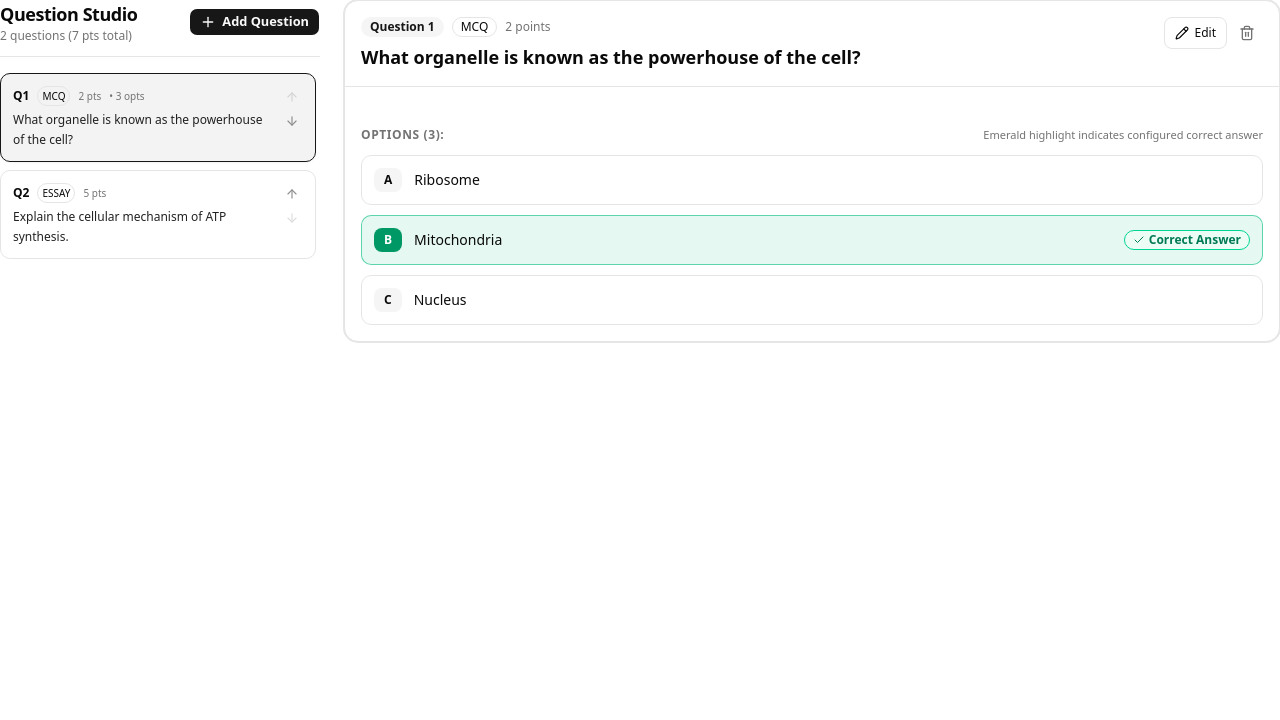
QuestionManager Component › Editing a Question › opens edit dialog, modifies question prompt and points, and saves
This screenshot has width=1280, height=720.
// Click Edit
Click the button with aria-label "Edit question 1" at [1195, 33], box [1164, 17, 1227, 49]
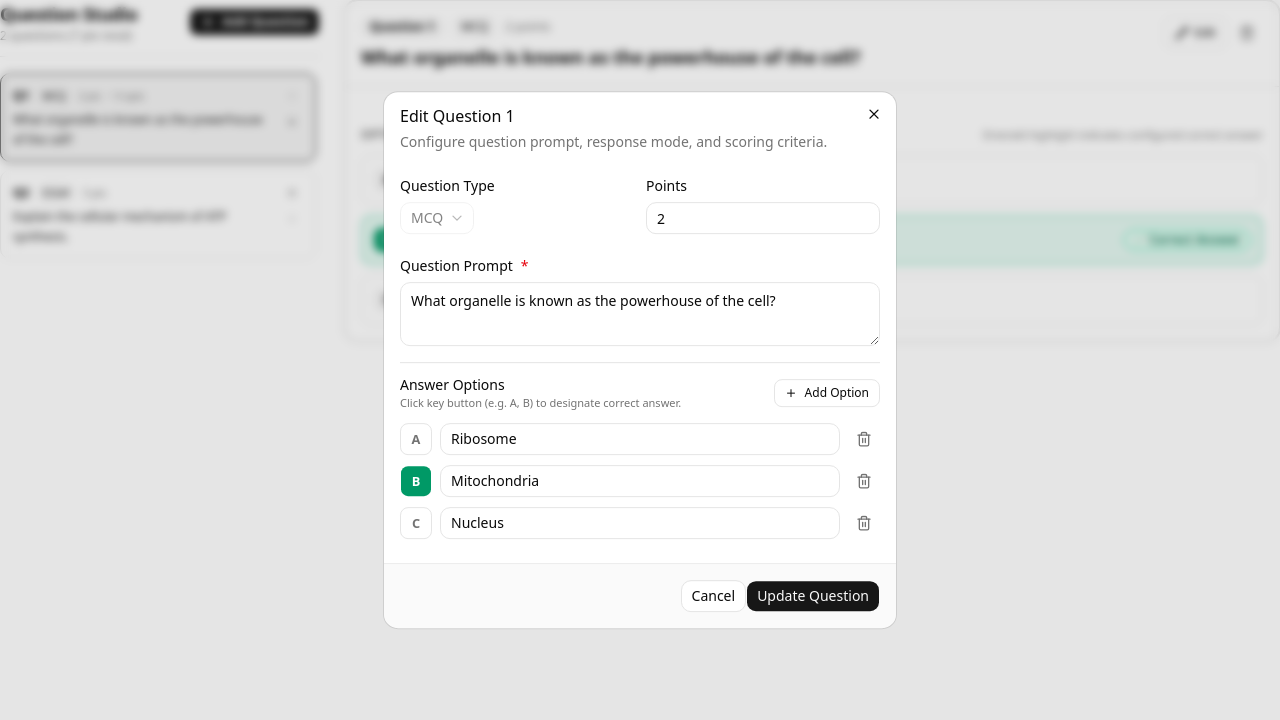
expect the heading "Edit Question 1" is shown: met, box [400, 105, 515, 127]
// Modify prompt and points
Replace the text in the text box labelled "Question Prompt *" with "Updated prompt about cell mitochondria?" at [640, 314], box [400, 282, 880, 346]
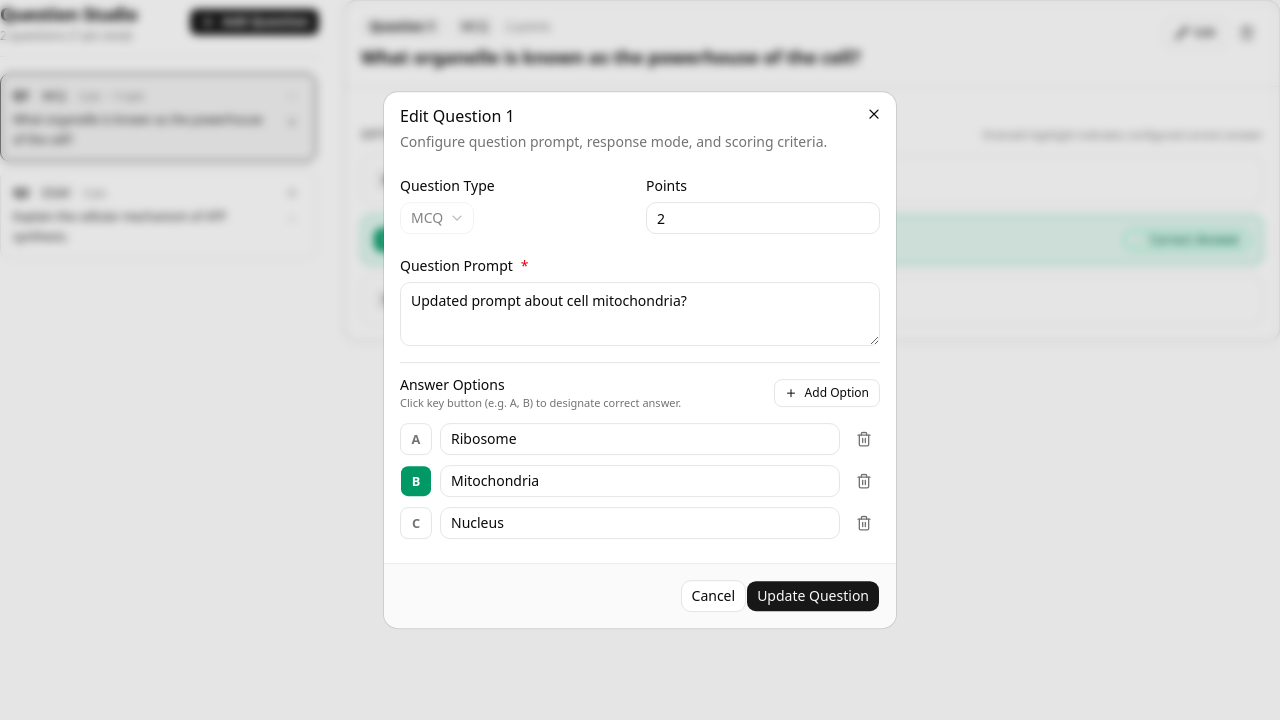
Replace the text in the number field labelled "Points" with "4" at [763, 218], box [646, 202, 880, 234]
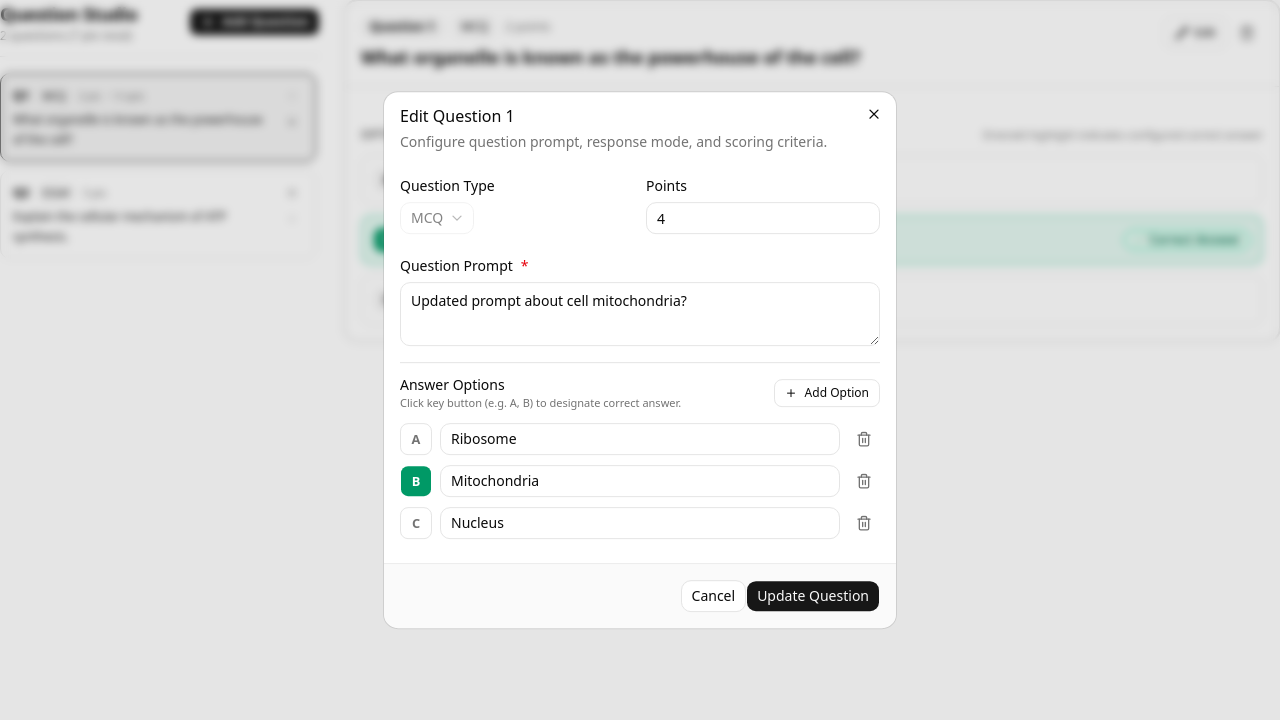
// Save changes
Click the button "Update Question" at [813, 596], box [746, 580, 880, 612]
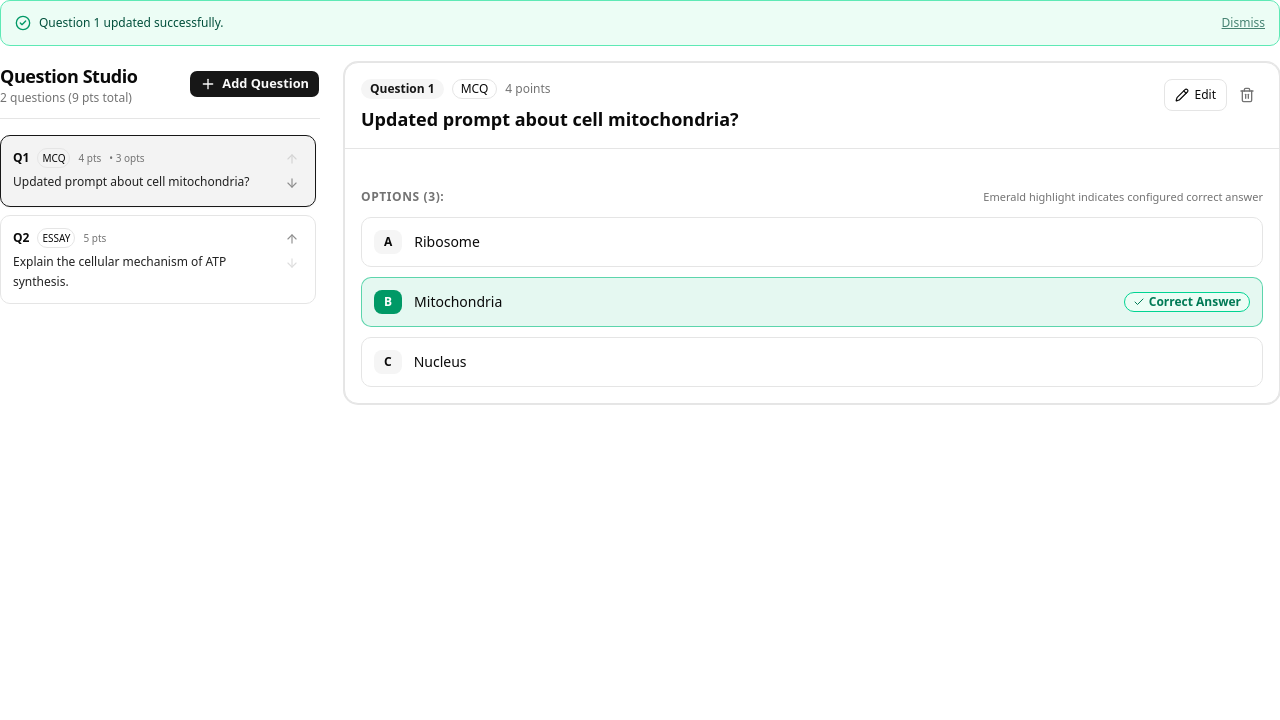
expect the text "Question 1 updated successfully." is shown: met, box [39, 15, 224, 31]
expect the heading "Updated prompt about cell mitochondria?" is shown: met, box [361, 107, 739, 132]
